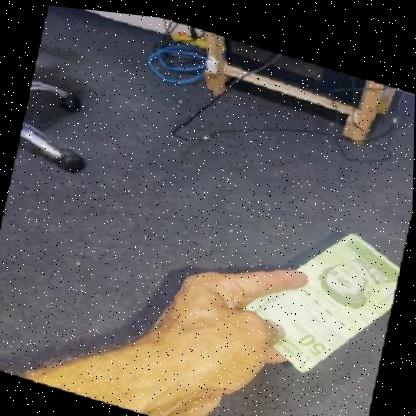fifty-front-vef: (234, 202, 405, 384)
